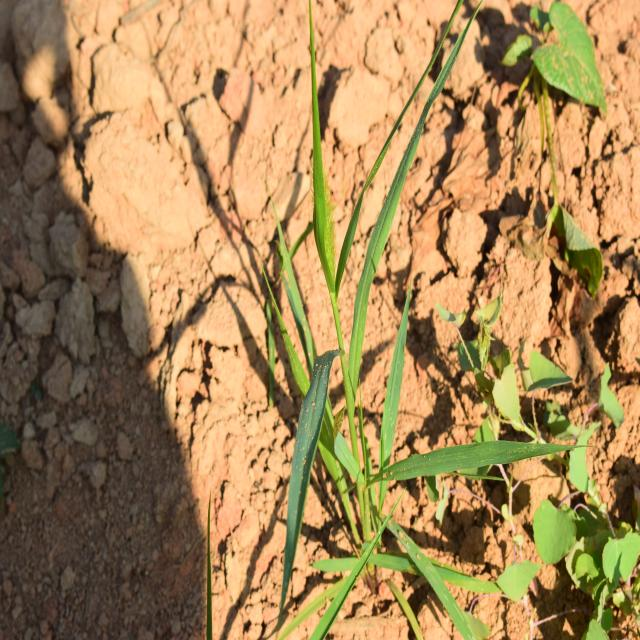green_foxtail: (249, 113, 460, 593)
